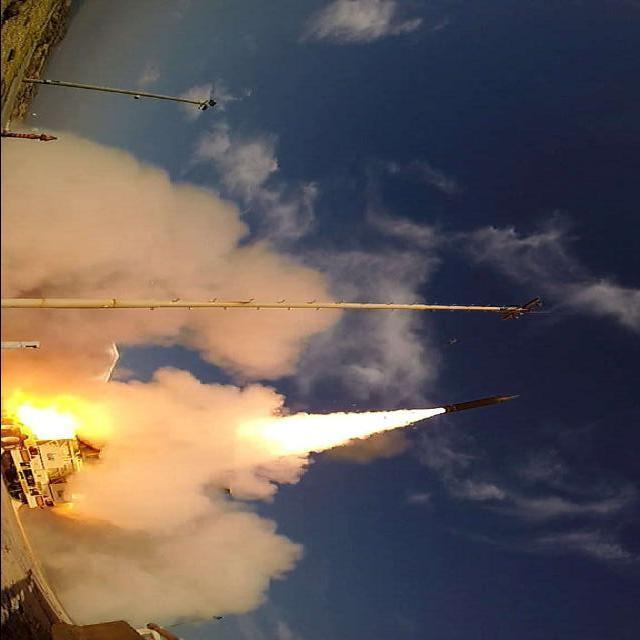Missile: (431, 385, 542, 423)
